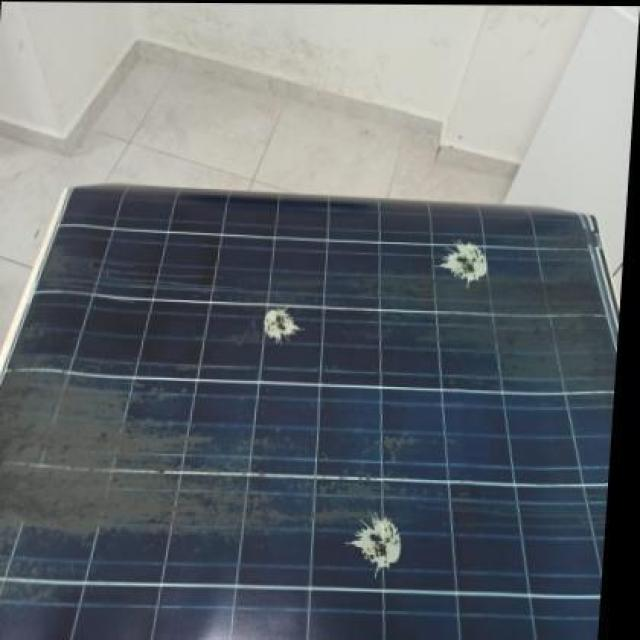soiled: (1, 186, 618, 638)
